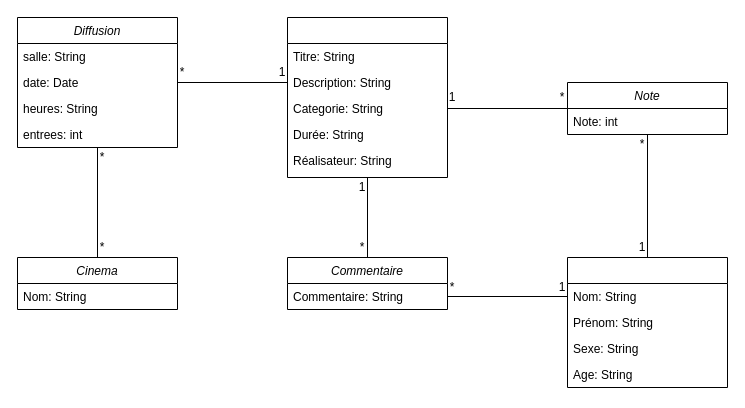
Some shapes in this 745 by 408 pixel diagram are drawn without their labels. The shapes that lost their labels are listed below. From the top down, each one's box as (x1, y1, x2, y2) in pixels, then its label:
(286, 16, 448, 178): Film
(566, 256, 728, 388): Utilisateur
